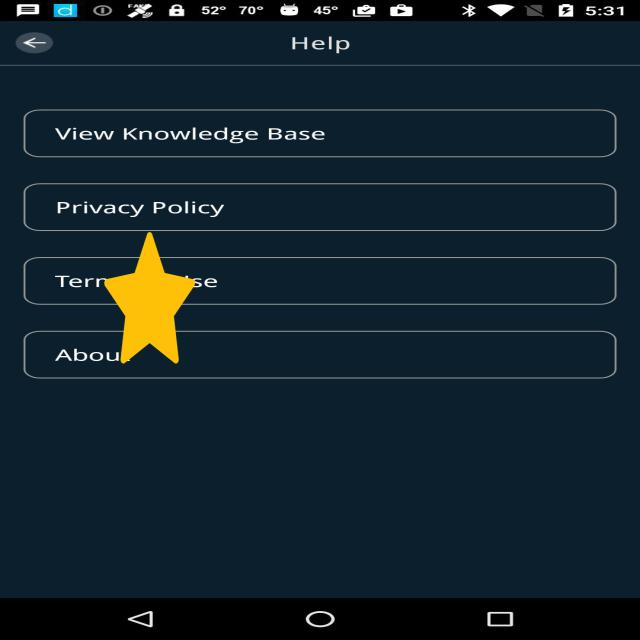forced continuity: (104, 232, 195, 364)
